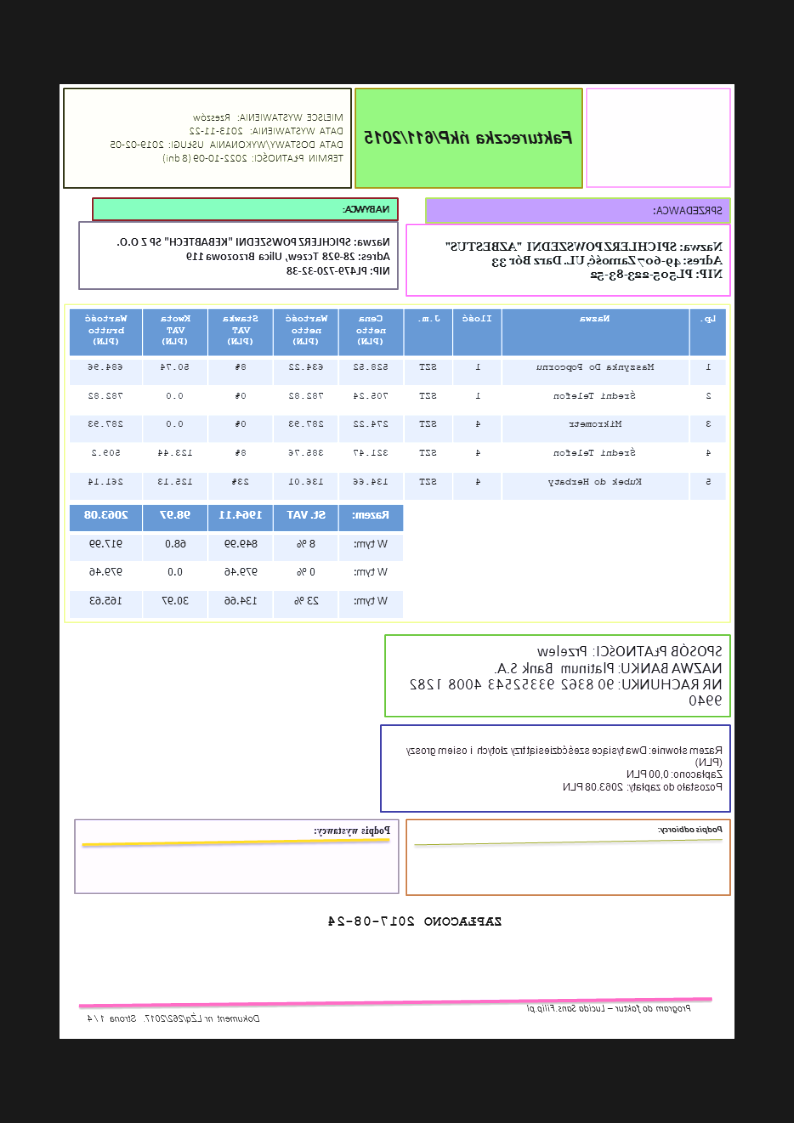Table: (67, 306, 728, 502), (66, 502, 407, 620)
TextBox: (404, 639, 726, 711), (400, 741, 726, 795), (104, 107, 347, 168), (111, 231, 394, 281), (444, 236, 726, 286), (361, 124, 576, 151), (82, 1008, 265, 1029), (325, 912, 505, 931), (523, 999, 696, 1018), (311, 820, 394, 842), (657, 819, 729, 840), (652, 200, 728, 219), (341, 200, 394, 218)
